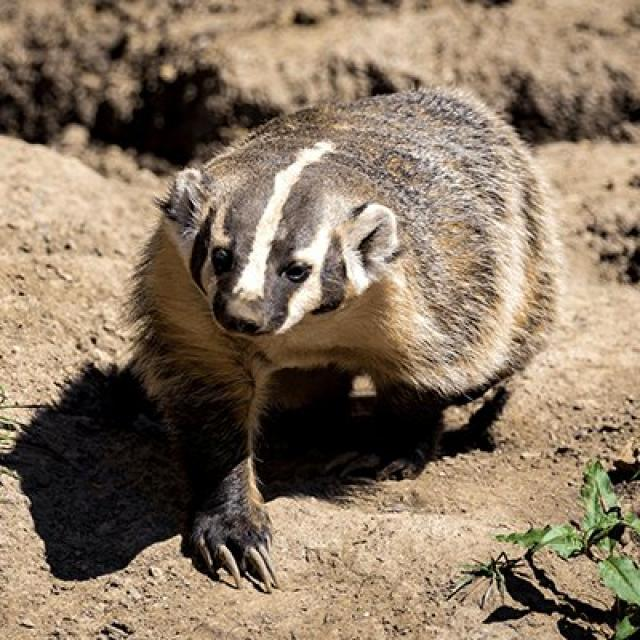badger: (133, 88, 562, 590)
